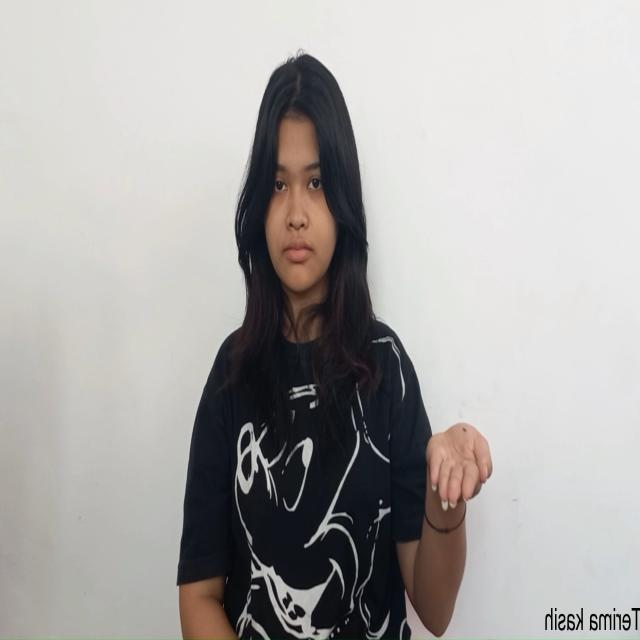Terima kasih -BISINDO-: (419, 412, 498, 523)
